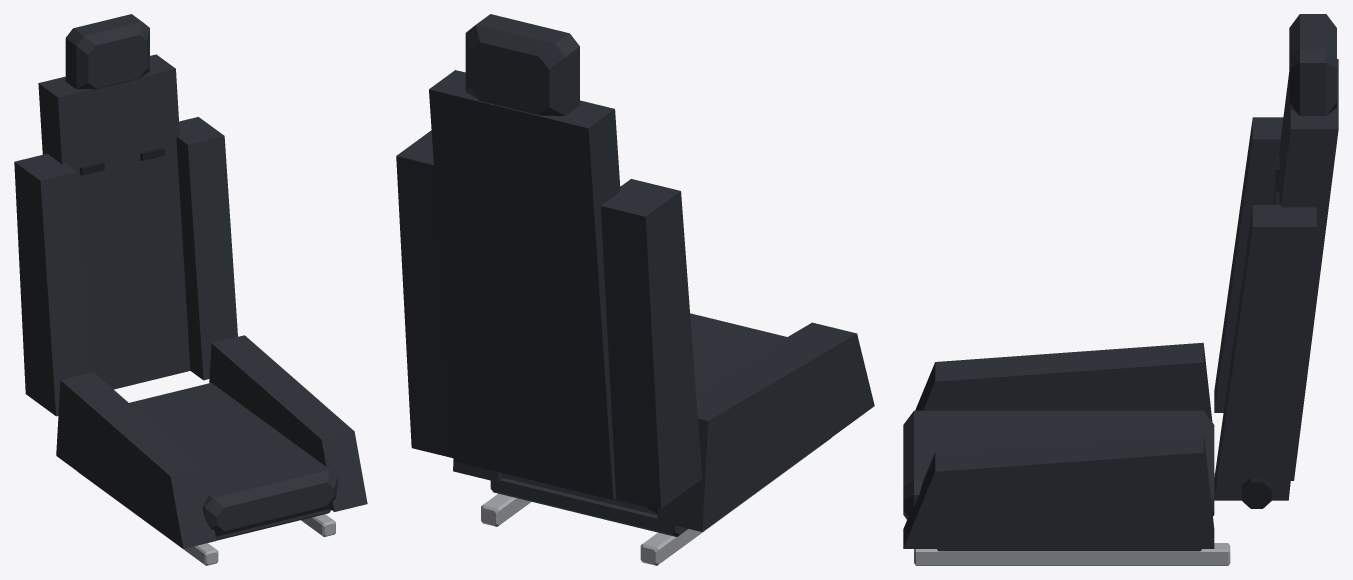
Rendered from ridgeback_4x4.glb.
The picture shows the model from 3 angles, left to right: view 1: azimuth 30°, elevation 25°; view 2: azimuth 150°, elevation 25°; view 3: azimuth 270°, elevation 25°; orthographic projection. The views are drawn at different scales.
Visible parts, largest first — view 1: model; view 2: model; view 3: model.
Part boxes in pixels (bbox=[...]): model: bbox=[14, 14, 367, 565]; model: bbox=[396, 14, 874, 565]; model: bbox=[903, 14, 1338, 565].
Size of the model in its own units: 0.5088 by 1.03 by 0.8189.
Materials: 3 (1 with a texture image).
